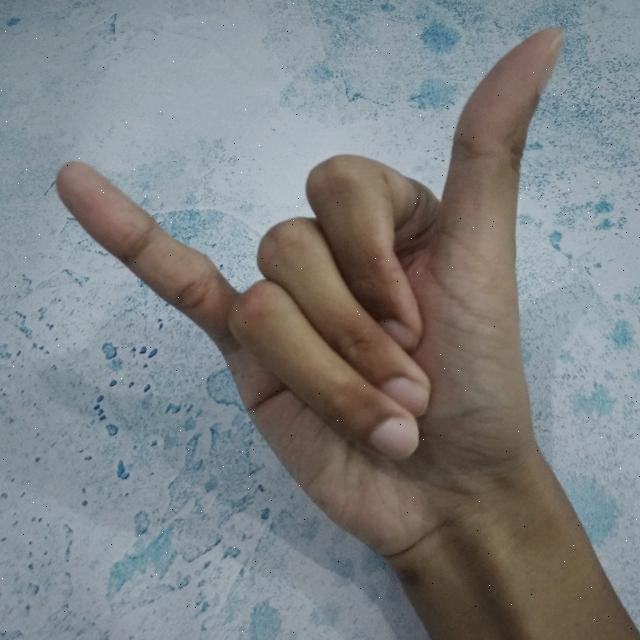Y: (50, 17, 633, 640)
